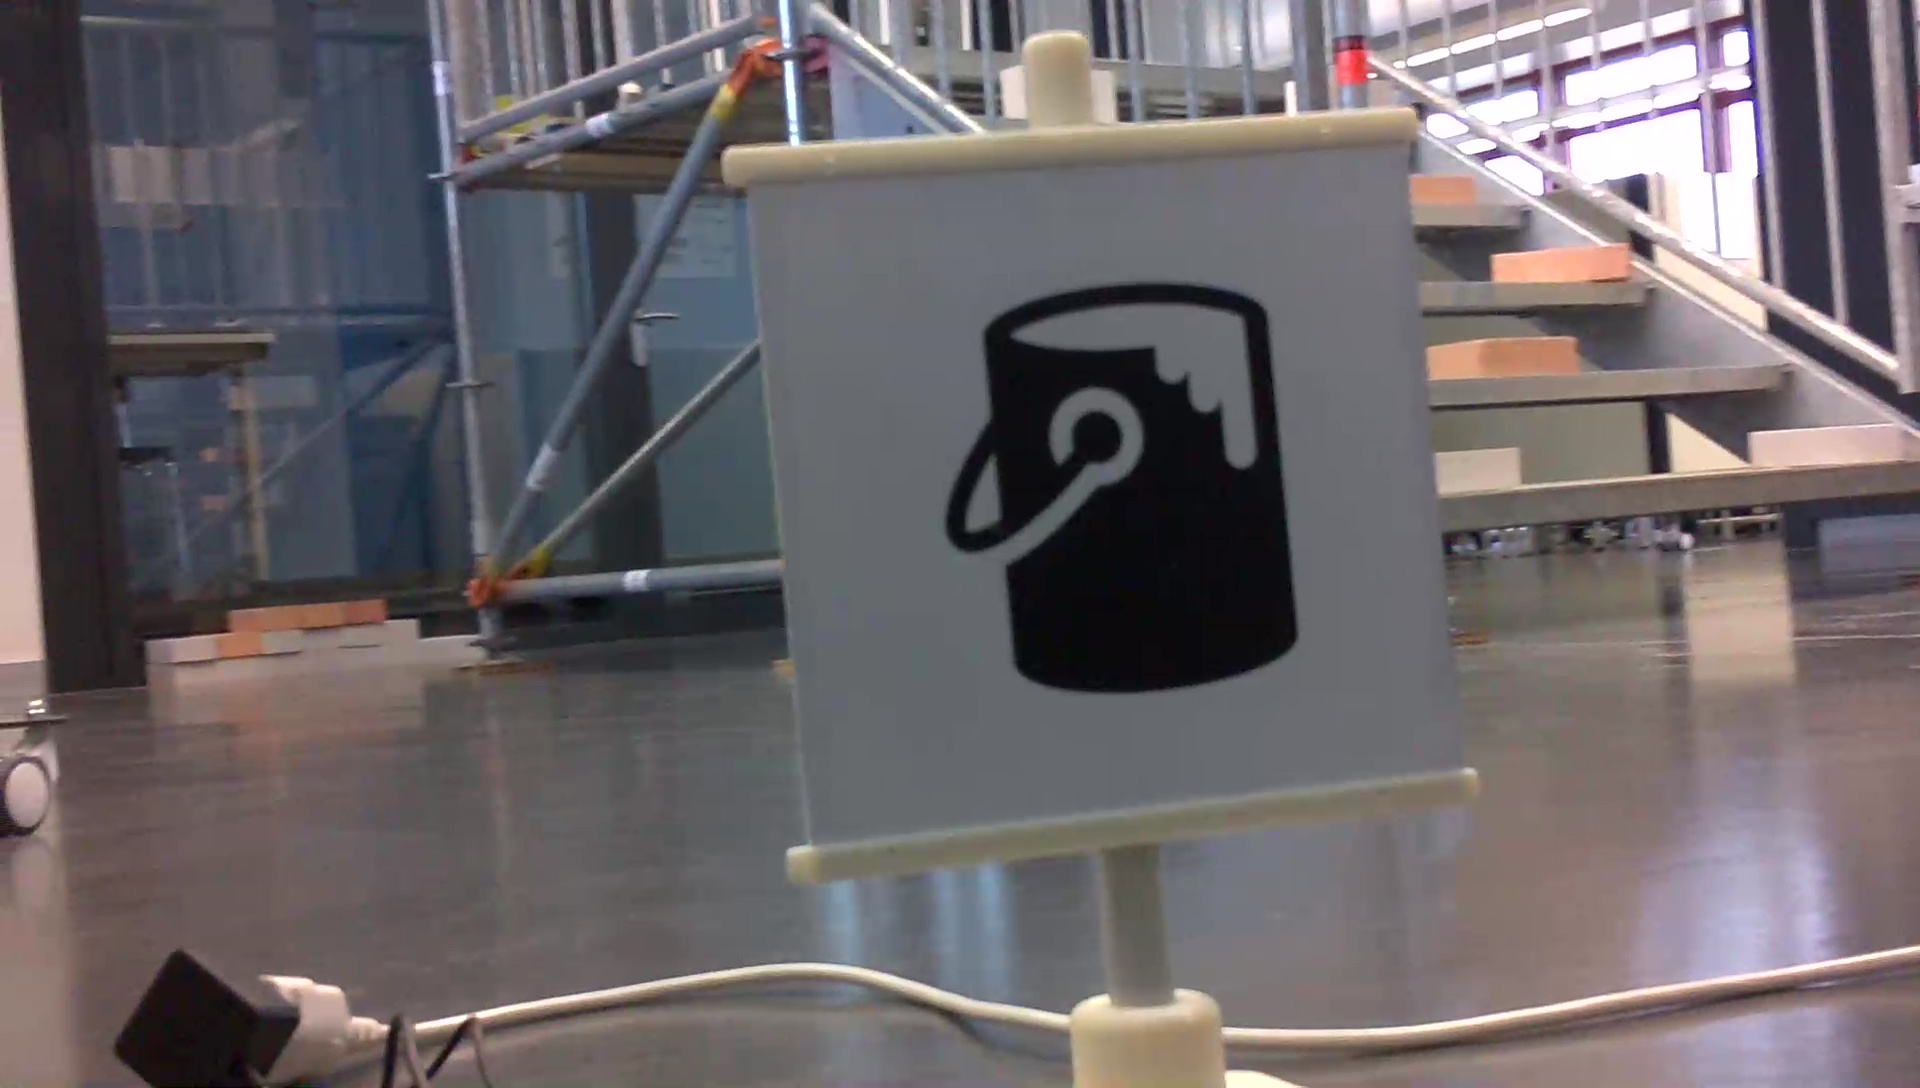brick: (1428, 334, 1576, 376), (1750, 425, 1900, 463), (1495, 248, 1627, 280), (1433, 448, 1516, 495), (1410, 170, 1473, 204)
bucket: (928, 268, 1309, 708)
edge: (1443, 458, 1917, 530), (1428, 367, 1797, 402), (1418, 281, 1658, 306)
